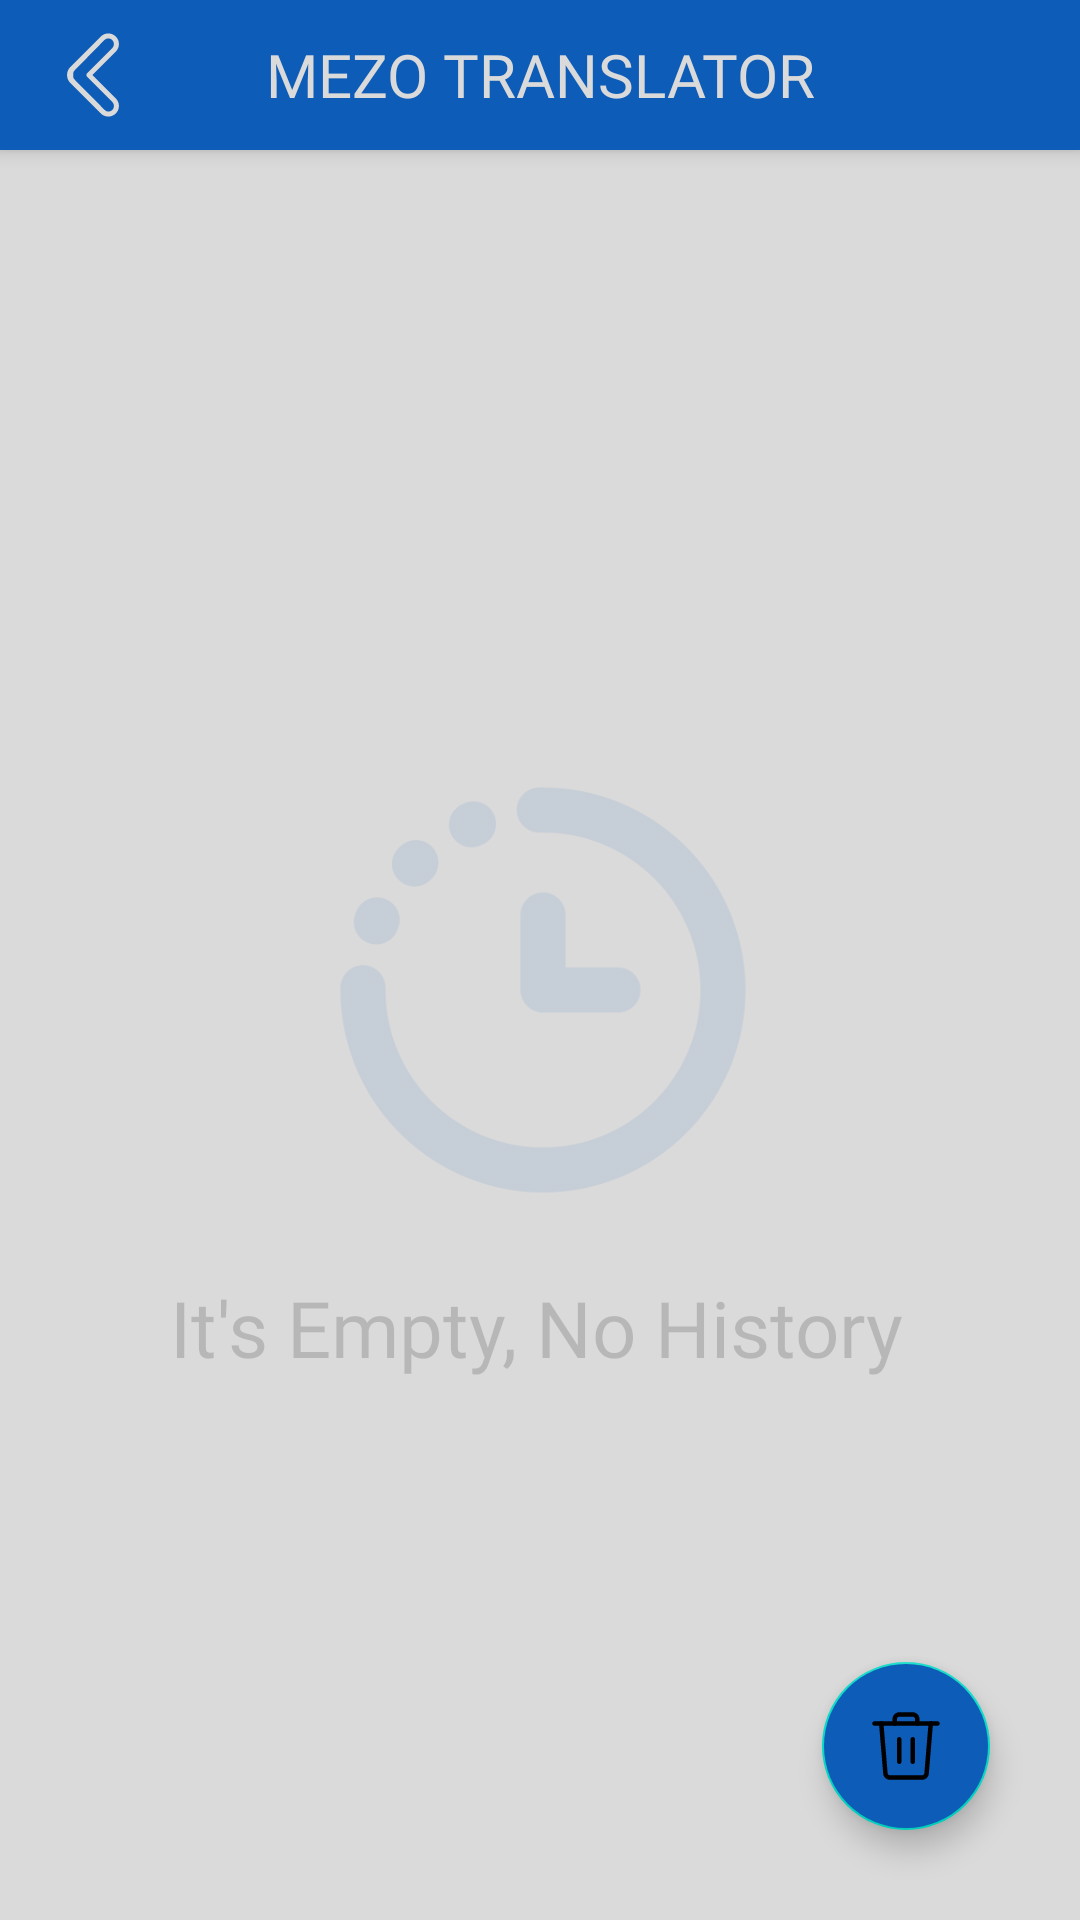

Screen size 1080 × 1920. Icon name, then its center in pixels as [x,y]:
back: [93,75]
bin: [906,1746]
